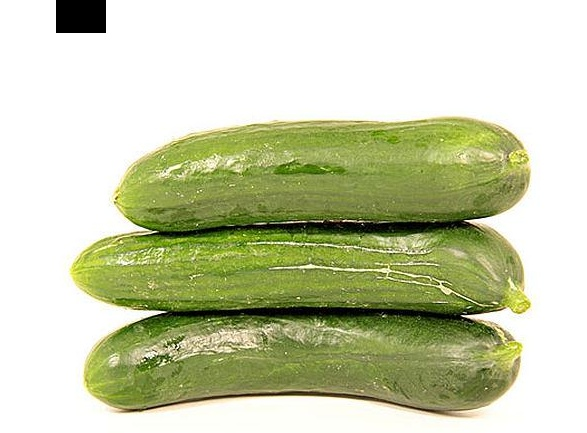cucumber: (118, 108, 531, 230), (84, 317, 526, 414), (67, 223, 522, 311)
